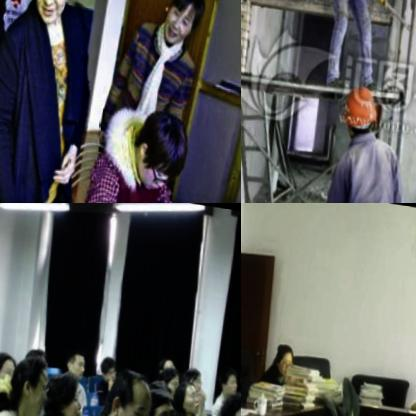head: (132, 100, 194, 192), (103, 357, 158, 416), (11, 355, 56, 416), (154, 0, 210, 46), (42, 364, 89, 416), (143, 377, 181, 416), (23, 337, 56, 381), (64, 337, 91, 379), (175, 371, 203, 411), (178, 354, 207, 392), (0, 346, 21, 393), (217, 357, 241, 395), (99, 351, 124, 386), (159, 359, 184, 394), (273, 335, 297, 370), (220, 382, 241, 416), (158, 346, 179, 376)
helmet: (342, 77, 384, 138)
